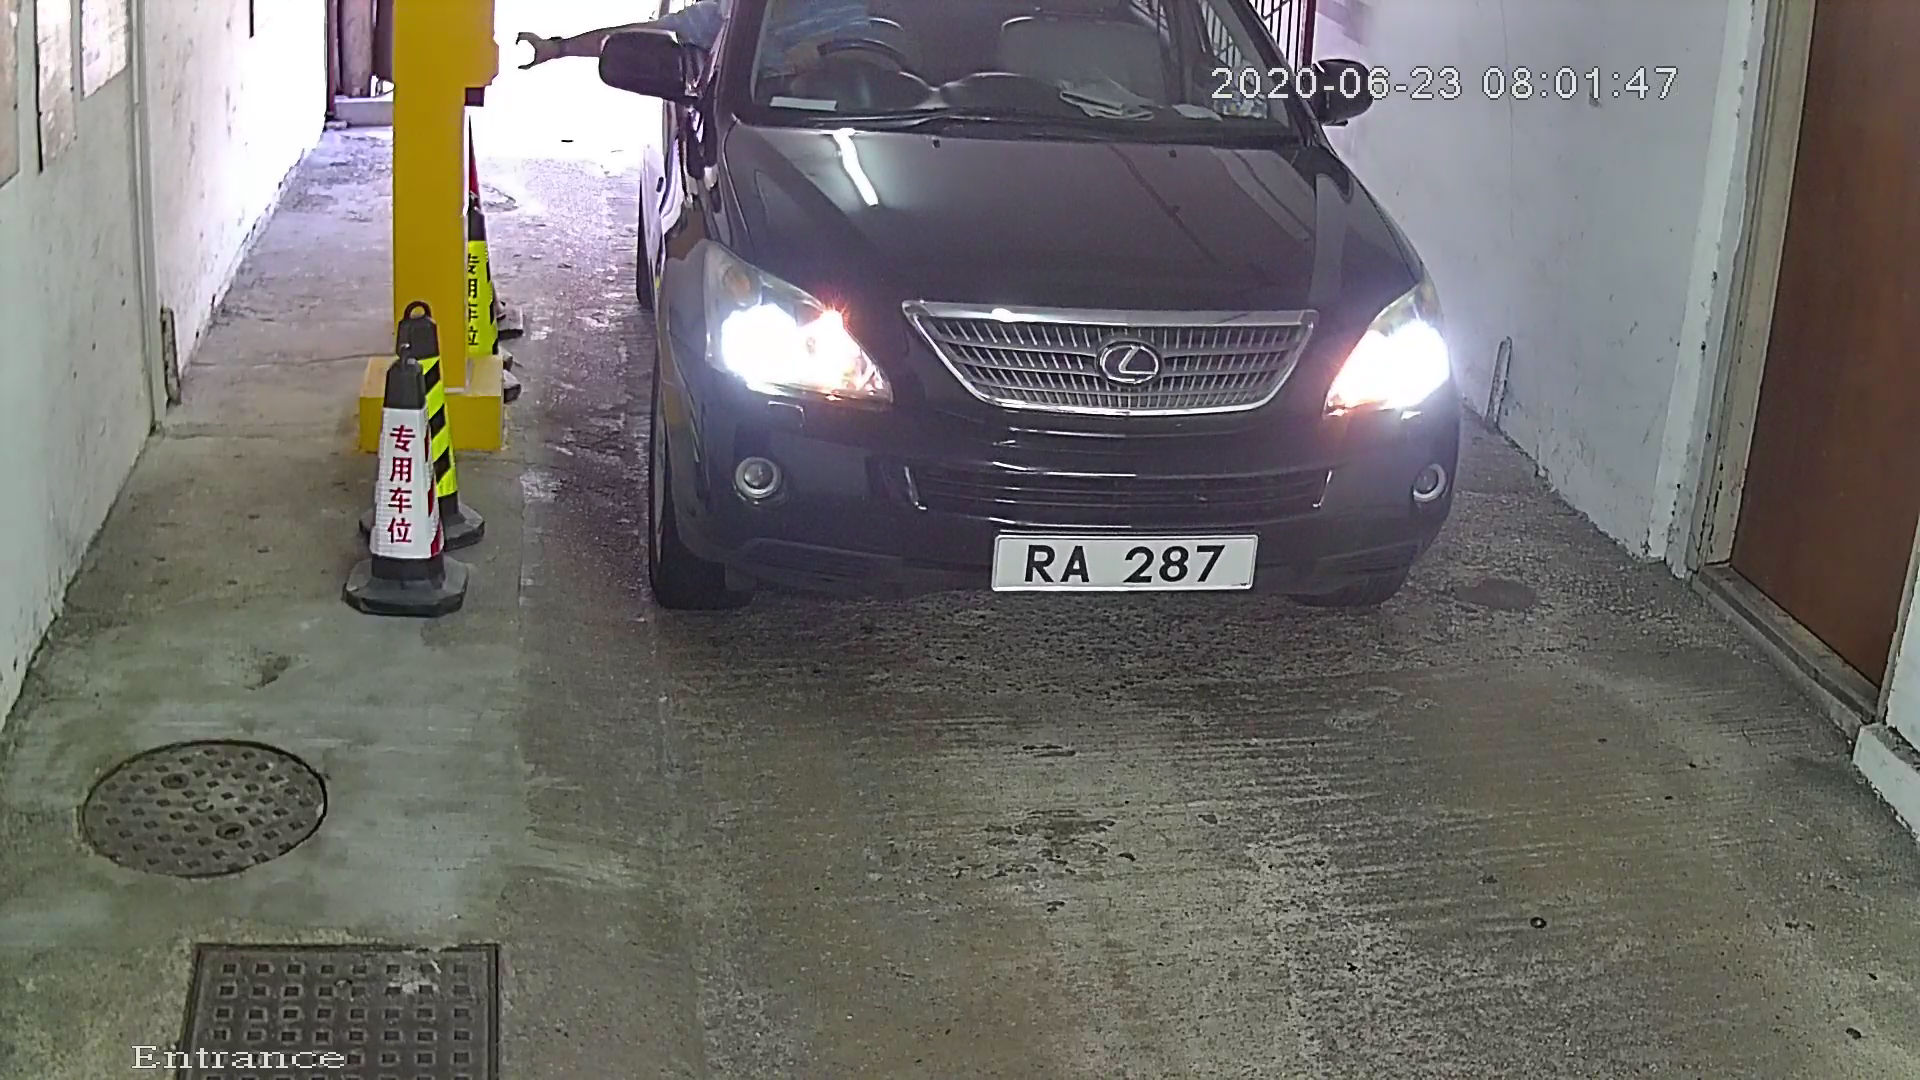privatecar: (585, 3, 1516, 740)
